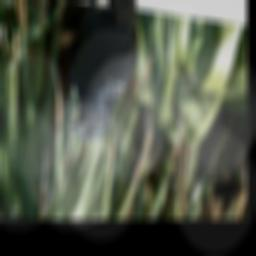Crow: (68, 0, 145, 142)
